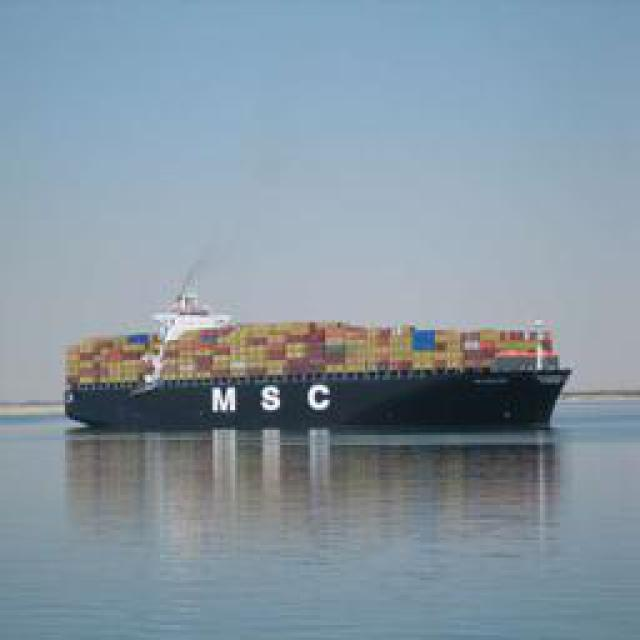Ship: (61, 262, 576, 435)
